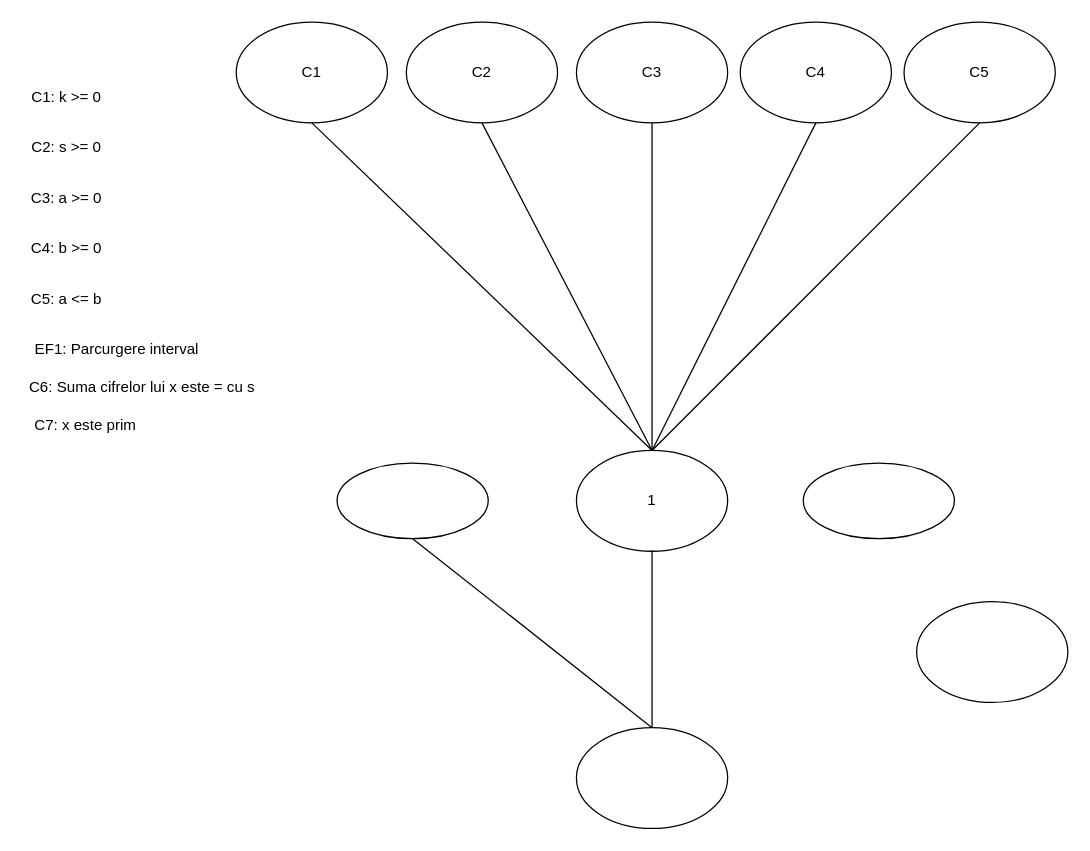
Some shapes in this 1090 by 851 pixel diagram are drawn without their labels. The centre of each missing label's shape, as x and y in pixels:
"C6" goes at point (412, 500).
"C7" goes at point (878, 500).
